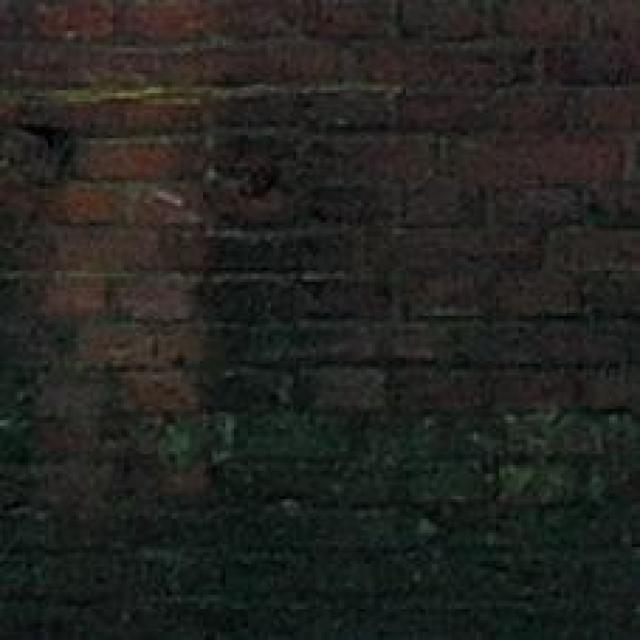Crack: (0, 79, 425, 502)
